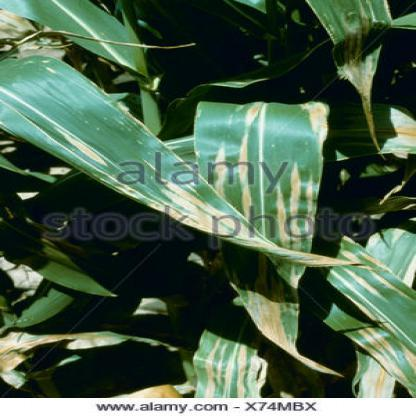Corn leaf blight: (4, 53, 348, 266), (195, 92, 336, 380)
